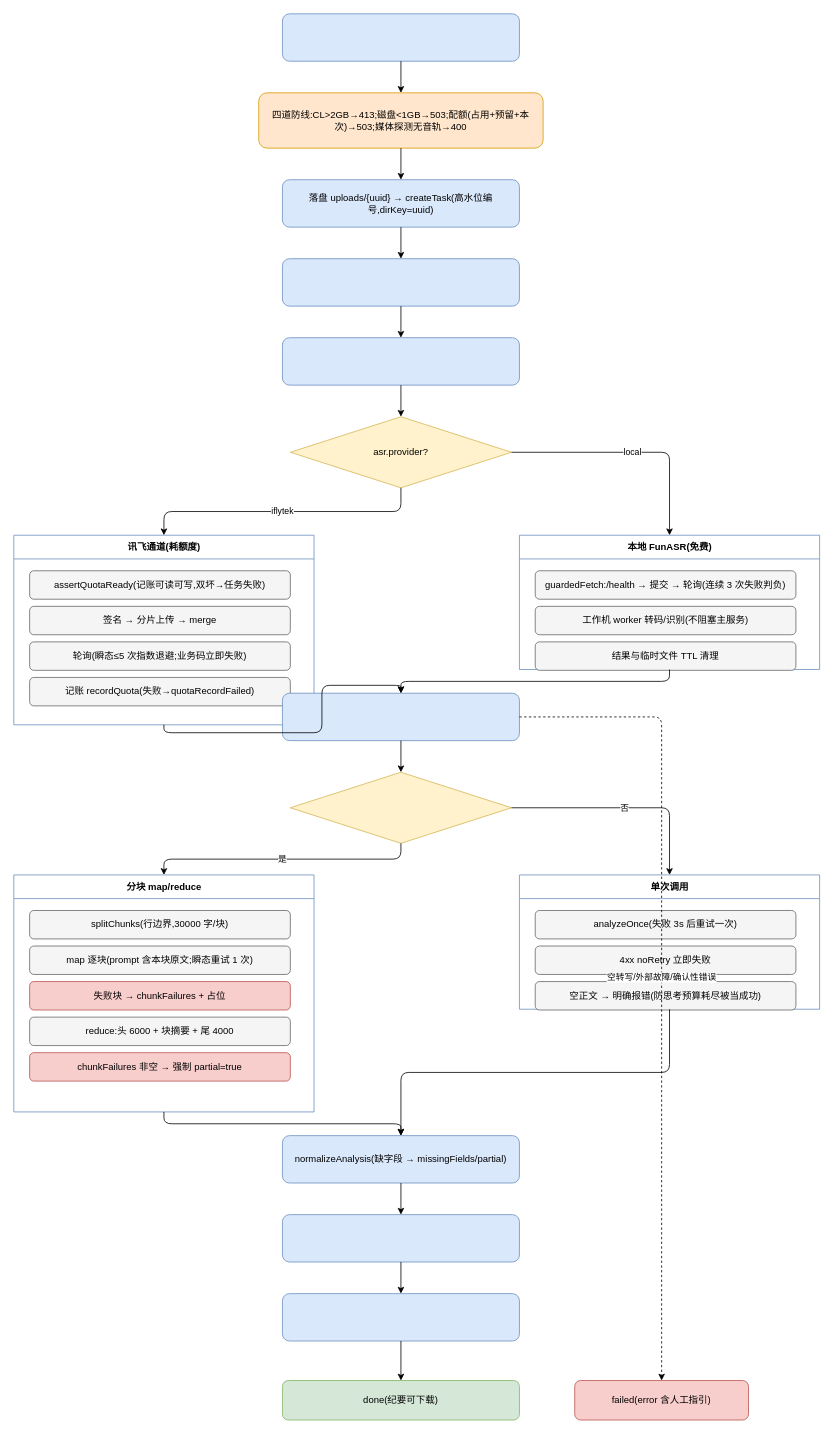
Image size: 833x1434. Some labels were removed from this diagram. Here are the shapes that lost their labels. From the top down, the centre of each, then its label:
At (x=400, y=37): "上传 POST /api/tasks(multipart,单文件 ≤2GB)".
At (x=400, y=282): "入串行队列(容量 10,满→503)".
At (x=400, y=361): "extract:ffmpeg → 16kHz 单声道 mp3(无 ffmpeg 跳过)".
At (x=400, y=716): "转写结果校验(<10 字 → 失败)".
At (x=401, y=807): ">42000 字?".
At (x=400, y=1238): "verifyActionEvidence(quote ∈ tref 片段核验)".
At (x=400, y=1317): "render:ALE HTML(完整性横幅/证据警示/说话人映射)".
